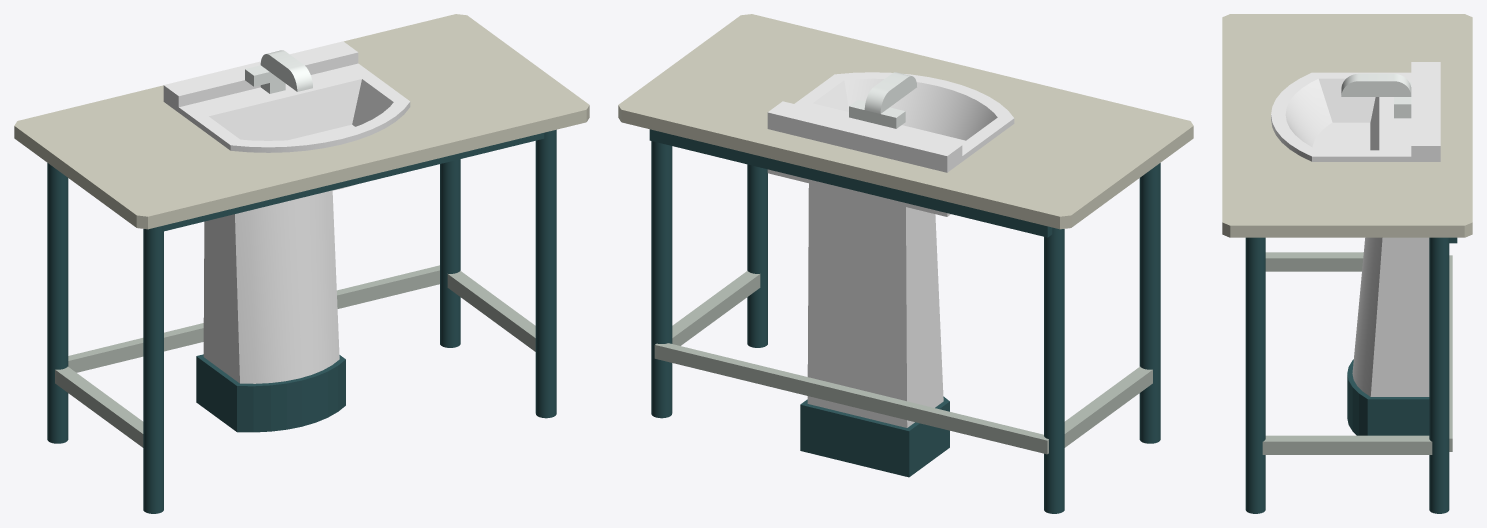
3 views of the same model, side by side, from view 1: azimuth 30°, elevation 25°; view 2: azimuth 150°, elevation 25°; view 3: azimuth 270°, elevation 25° (orthographic). The views are drawn at different scales.
Visible parts, largest first — view 1: wash-countertop, basin-bowl, pedestal-foot, right-front-tube, left-front-tube, left-rear-tube, rear-footrest, right-rear-tube, front-box-rail, left-lower-tie, right-lower-tie, basin-faucet; view 2: wash-countertop, basin-bowl, rear-footrest, pedestal-foot, left-rear-tube, left-front-tube, right-rear-tube, rear-box-rail, right-front-tube, left-lower-tie, right-lower-tie, basin-faucet; view 3: wash-countertop, basin-bowl, right-front-tube, right-rear-tube, pedestal-foot, right-lower-tie, left-lower-tie, basin-faucet, rear-footrest.
Boxes of the visible parts, left/top/right/bottom form: wash-countertop: left=14, top=14, right=589, bottom=229; basin-bowl: left=163, top=41, right=410, bottom=383; pedestal-foot: left=196, top=354, right=345, bottom=432; right-front-tube: left=535, top=129, right=556, bottom=418; left-front-tube: left=143, top=226, right=163, bottom=513; left-rear-tube: left=47, top=163, right=68, bottom=443; rear-footrest: left=68, top=265, right=439, bottom=372; right-rear-tube: left=440, top=159, right=460, bottom=347; front-box-rail: left=163, top=133, right=544, bottom=231; left-lower-tie: left=55, top=366, right=143, bottom=447; right-lower-tie: left=447, top=271, right=535, bottom=351; basin-faucet: left=245, top=50, right=312, bottom=93; wash-countertop: left=618, top=14, right=1193, bottom=229; basin-bowl: left=767, top=72, right=1014, bottom=427; rear-footrest: left=654, top=343, right=1048, bottom=454; pedestal-foot: left=800, top=396, right=949, bottom=477; left-rear-tube: left=1044, top=227, right=1064, bottom=513; left-front-tube: left=1139, top=163, right=1160, bottom=443; right-rear-tube: left=651, top=141, right=672, bottom=418; rear-box-rail: left=649, top=129, right=1052, bottom=237; right-front-tube: left=747, top=164, right=767, bottom=347; left-lower-tie: left=1064, top=366, right=1152, bottom=447; right-lower-tie: left=672, top=271, right=760, bottom=345; basin-faucet: left=849, top=72, right=916, bottom=128; wash-countertop: left=1222, top=14, right=1472, bottom=237; basin-bowl: left=1271, top=62, right=1440, bottom=396; right-front-tube: left=1245, top=237, right=1265, bottom=513; right-rear-tube: left=1429, top=237, right=1449, bottom=513; pedestal-foot: left=1347, top=359, right=1429, bottom=435; right-lower-tie: left=1262, top=435, right=1432, bottom=454; left-lower-tie: left=1265, top=252, right=1363, bottom=271; basin-faucet: left=1341, top=73, right=1411, bottom=118; rear-footrest: left=1449, top=255, right=1452, bottom=451.
Size of the model in its own units: 1.2 by 0.9 by 0.6.
